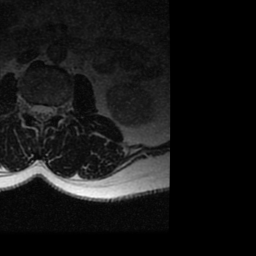CCS_normal: (38, 98, 46, 126)
LFS_normal: (55, 100, 63, 119)
LLS_normal: (46, 99, 54, 121)
RFS_normal: (21, 96, 31, 118)
RLS_normal: (30, 98, 39, 123)
